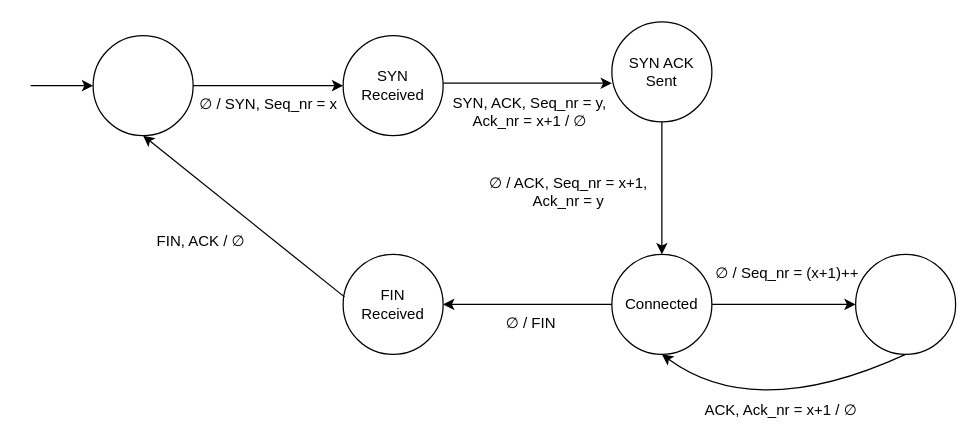
Image size: 978x445. Some labels were removed from this diagram. The shapes that lost their labels are listed below. From the top down, each one's centre as x and y in pixels, then its label:
(142,85): Listen
(905,303): Packet Received
